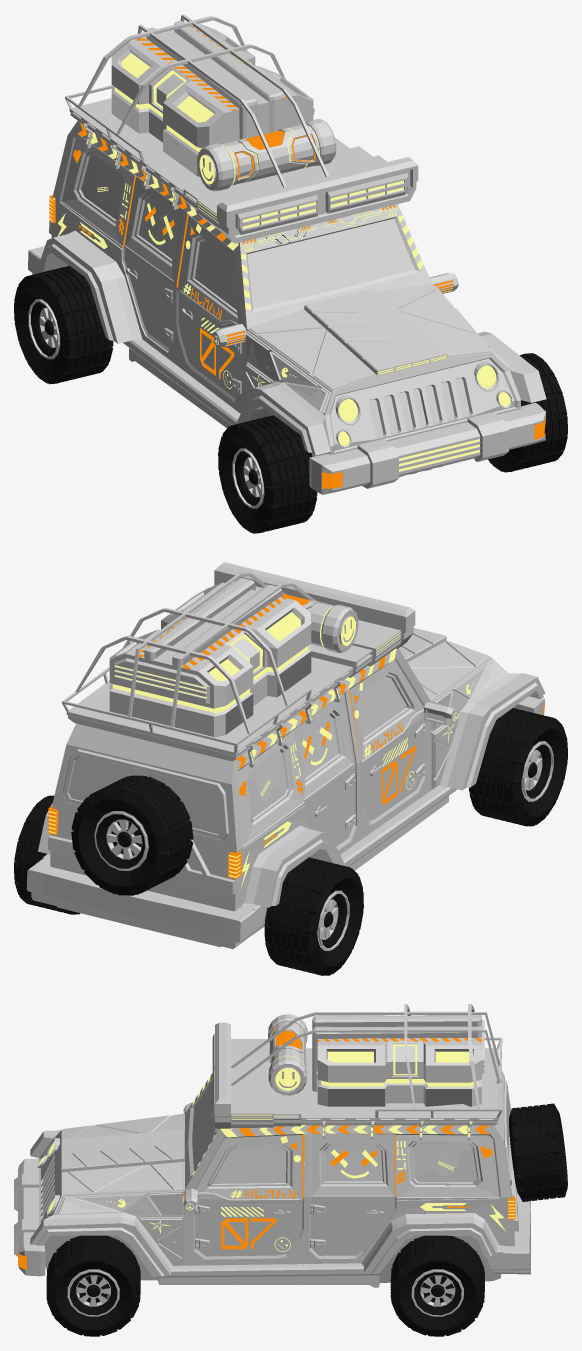
File: car.glb
3 views of the same model, one above another, from view 1: azimuth 30°, elevation 25°; view 2: azimuth 150°, elevation 25°; view 3: azimuth 270°, elevation 25° (orthographic). The views are drawn at different scales.
Visible parts, largest first — view 1: color1, black, top, color2, window, crater1, tire1.0, tire2.0, light2, crater2, light1, tire3.0 (+3 smaller); view 2: color1, black, top, crater1, tire5.0, tire2.0, window, tire1.0, color2, crater2, light2, light1 (+5 smaller); view 3: color1, black, top, crater1, color2, window, tire3.0, tire4.0, light2, tire5.0, crater2, light1 (+3 smaller).
Part boxes in pixels (x1=…): color1: x1=51, y1=121, x2=520, y2=476; black: x1=28, y1=129, x2=546, y2=494; top: x1=65, y1=14, x2=418, y2=243; color2: x1=49, y1=152, x2=508, y2=488; window: x1=81, y1=155, x2=414, y2=309; crater1: x1=111, y1=24, x2=336, y2=191; tire1.0: x1=218, y1=415, x2=317, y2=533; tire2.0: x1=14, y1=266, x2=113, y2=384; light2: x1=49, y1=53, x2=510, y2=471; crater2: x1=146, y1=20, x2=319, y2=182; light1: x1=49, y1=26, x2=545, y2=488; tire3.0: x1=488, y1=353, x2=567, y2=472; color1: x1=50, y1=633, x2=514, y2=946; black: x1=26, y1=593, x2=545, y2=948; top: x1=62, y1=562, x2=415, y2=767; crater1: x1=109, y1=581, x2=358, y2=737; tire5.0: x1=71, y1=775, x2=193, y2=895; tire2.0: x1=264, y1=857, x2=363, y2=975; window: x1=68, y1=676, x2=406, y2=834; tire1.0: x1=469, y1=708, x2=567, y2=826; color2: x1=48, y1=628, x2=485, y2=894; crater2: x1=113, y1=578, x2=334, y2=703; light2: x1=48, y1=603, x2=473, y2=888; light1: x1=48, y1=593, x2=544, y2=878; color1: x1=37, y1=1067, x2=514, y2=1286; black: x1=18, y1=1025, x2=530, y2=1287; top: x1=212, y1=1004, x2=502, y2=1140; crater1: x1=268, y1=1014, x2=481, y2=1106; color2: x1=14, y1=1114, x2=518, y2=1264; window: x1=192, y1=1080, x2=510, y2=1183; tire3.0: x1=46, y1=1235, x2=140, y2=1336; tire4.0: x1=390, y1=1235, x2=484, y2=1336; light2: x1=39, y1=1027, x2=515, y2=1251; tire5.0: x1=509, y1=1103, x2=567, y2=1201; crater2: x1=269, y1=1015, x2=484, y2=1091; light1: x1=18, y1=1027, x2=515, y2=1269.
Bounding box in the file's own units: 6.66 × 6.4 × 12.55.
